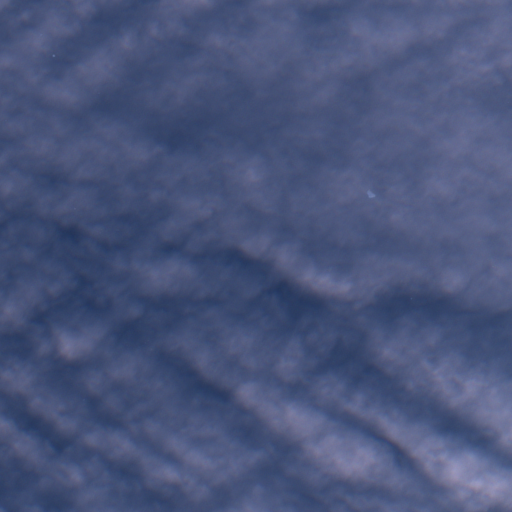Iceberg: (367, 190, 375, 197), (53, 55, 54, 56)
